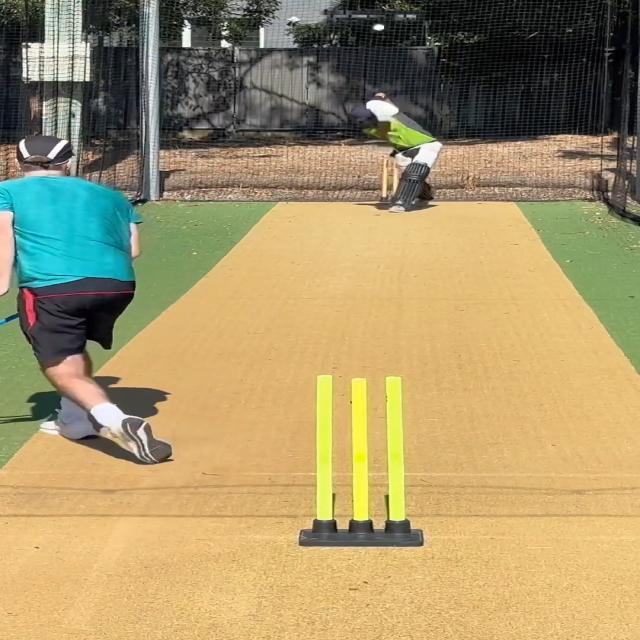ball: (370, 22, 388, 32)
stump: (290, 372, 420, 546)
